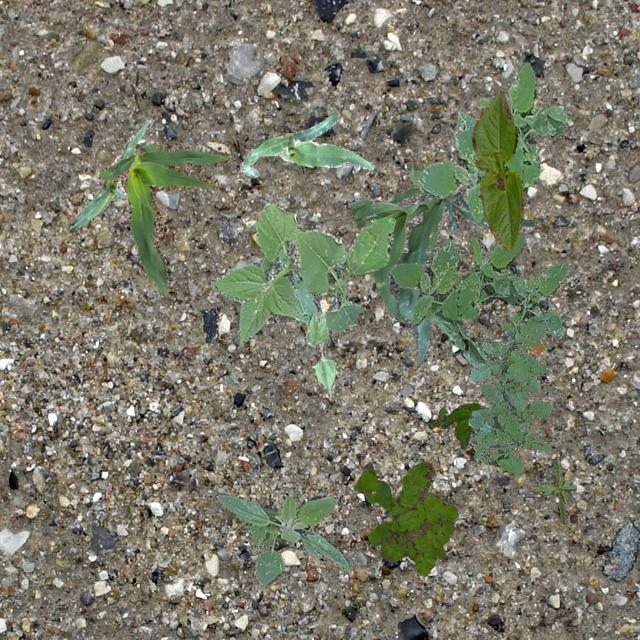crop: (348, 158, 532, 366), (98, 143, 230, 300), (66, 118, 152, 232), (238, 112, 374, 176), (470, 90, 522, 250), (432, 310, 487, 366), (304, 312, 336, 396)
weed: (210, 202, 394, 342), (416, 60, 566, 222), (388, 230, 572, 336), (468, 316, 550, 476), (216, 492, 350, 584), (354, 460, 456, 574), (532, 456, 576, 522), (428, 402, 482, 448)
